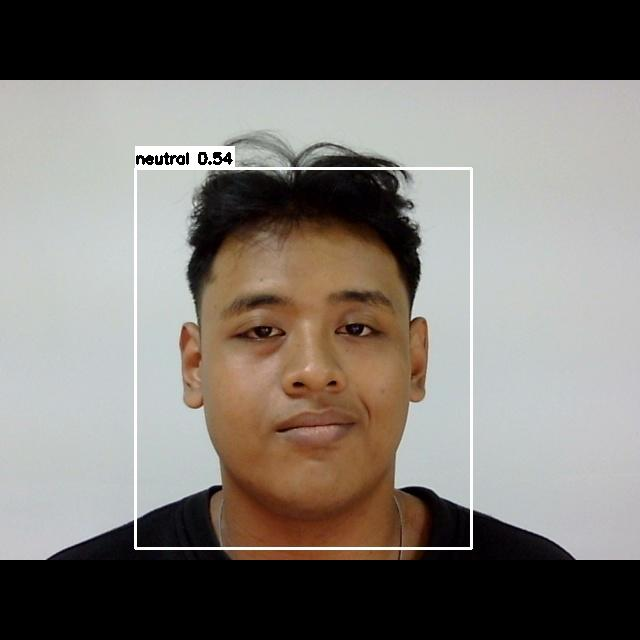Happy: (199, 279, 412, 469)
